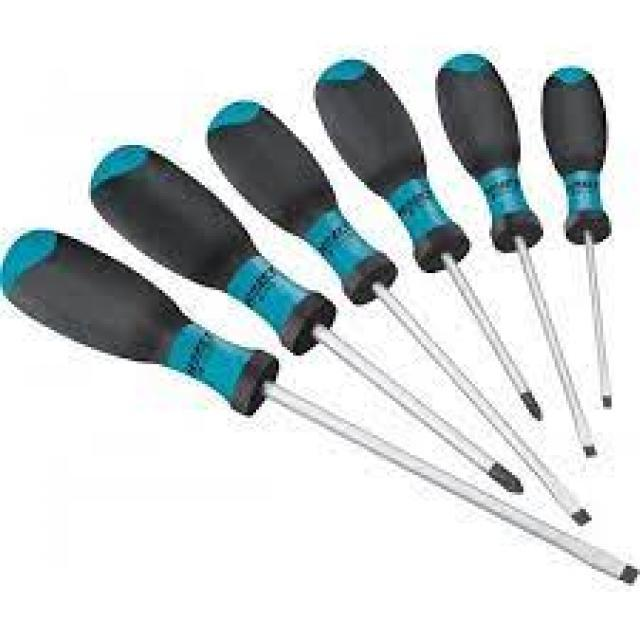screwdriver: (3, 225, 640, 589), (203, 95, 593, 525), (82, 140, 530, 500), (312, 57, 548, 427), (432, 43, 603, 460), (540, 45, 620, 412)
